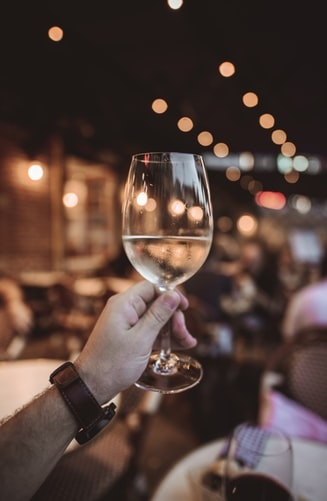whiskey: (125, 155, 218, 382)
